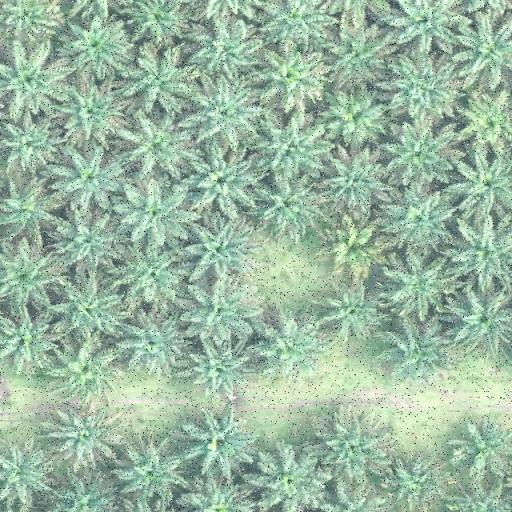Ganoderma: (334, 232, 371, 263)
